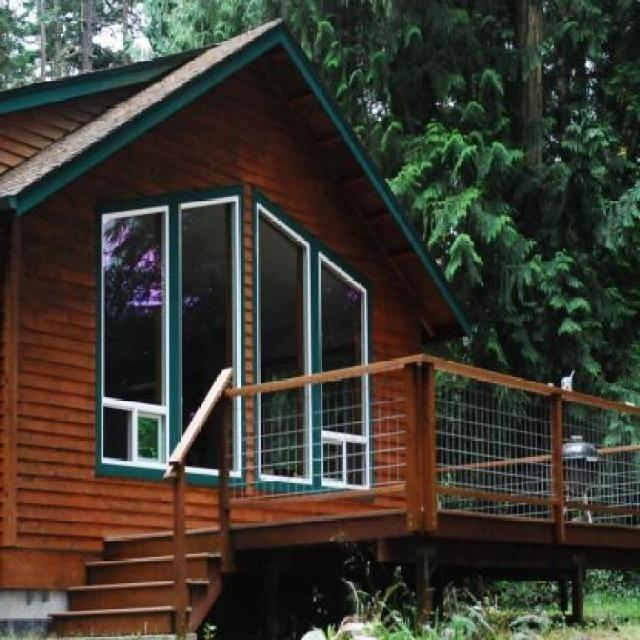stair: (46, 524, 222, 634)
